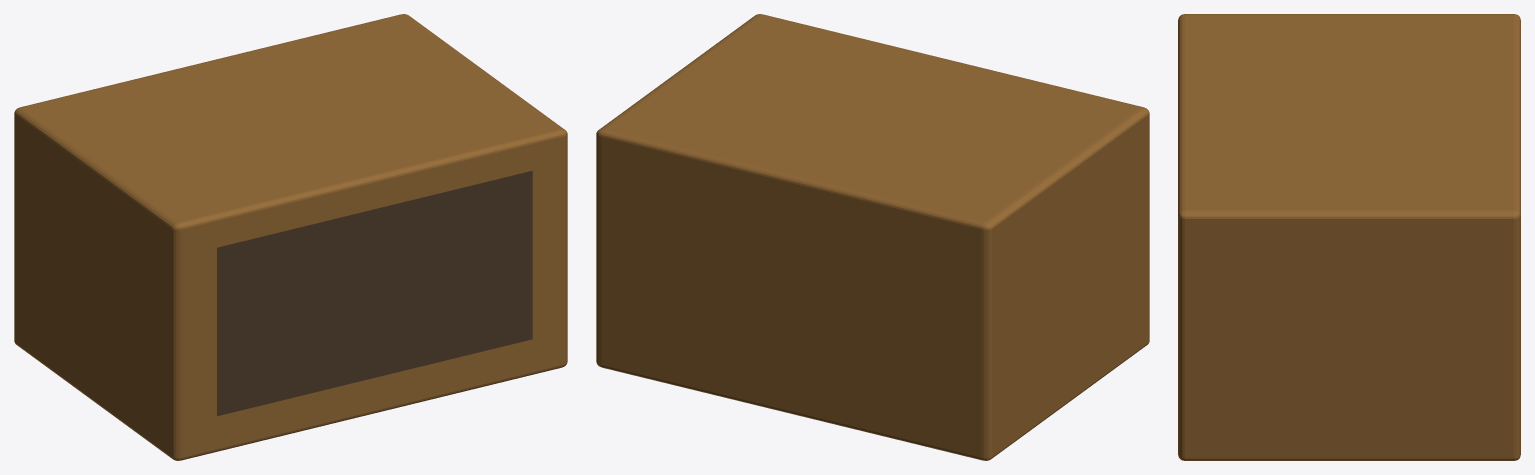
3 views of the same model, side by side, from view 1: azimuth 30°, elevation 25°; view 2: azimuth 150°, elevation 25°; view 3: azimuth 270°, elevation 25° (orthographic). The views are drawn at different scales.
Parts seen in each view (by area): view 1: Cube.001, Plane; view 2: Cube.001; view 3: Cube.001.
Boxes of the visible parts, x1,y1,x2,y2 form: Cube.001: (14,14,567,460); Plane: (217,170,532,416); Cube.001: (596,14,1149,460); Cube.001: (1178,14,1520,460).
Bounding box in the file's own units: 2.8 × 1.61 × 2.
